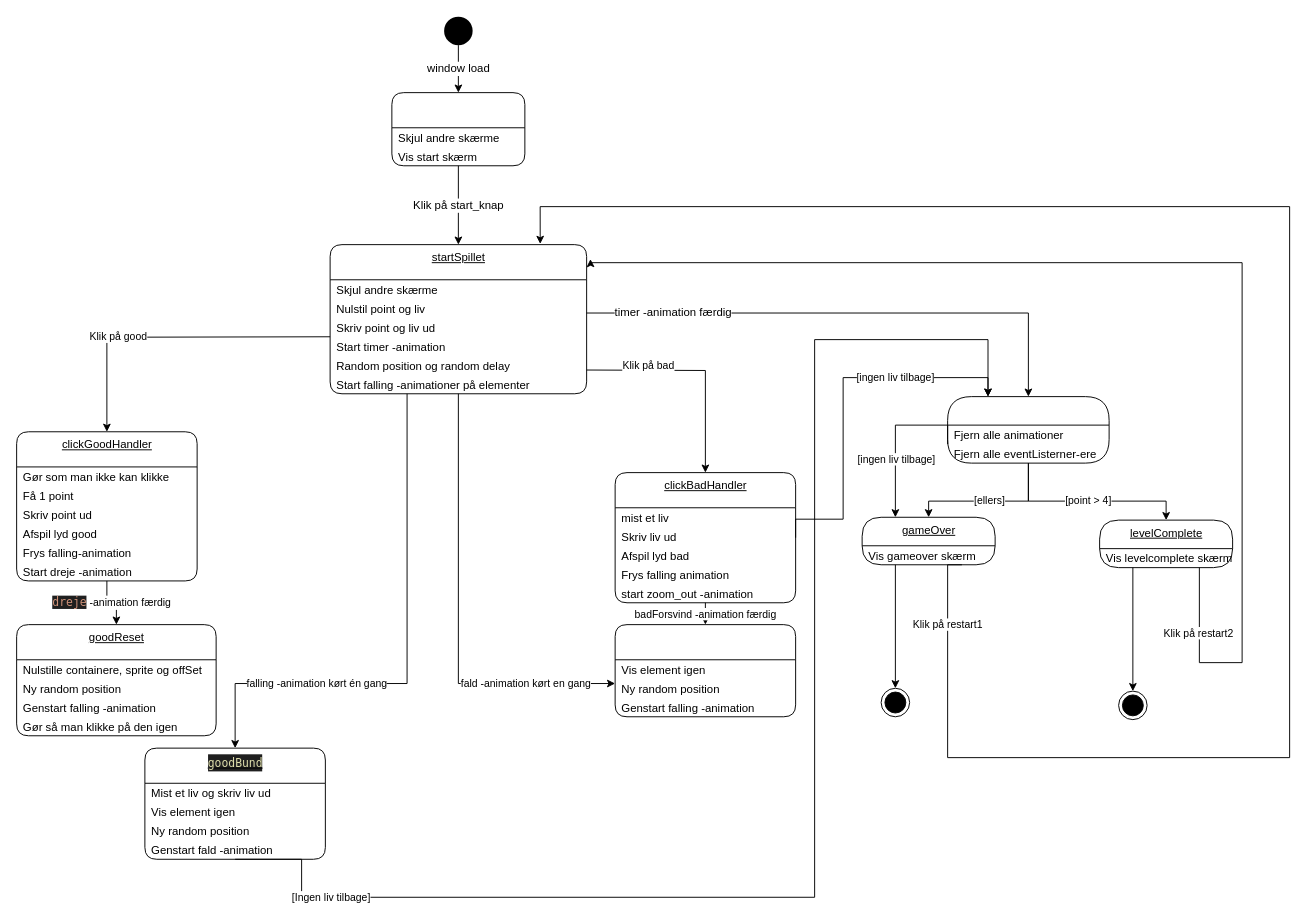
Some shapes in this 1314 by 922 pixel diagram are drawn without their labels. The box of each missing label's shape, as (x1, y1, x2, y2) in pixels:
badReset: (614, 624, 796, 717)
sidenVises: (391, 92, 525, 166)
stopSpillet: (947, 396, 1109, 463)
